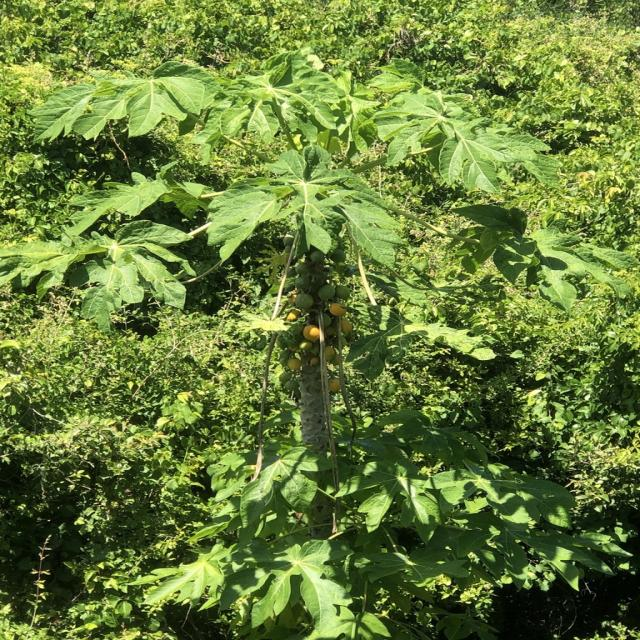Papaya-Tree: (61, 44, 528, 640)
